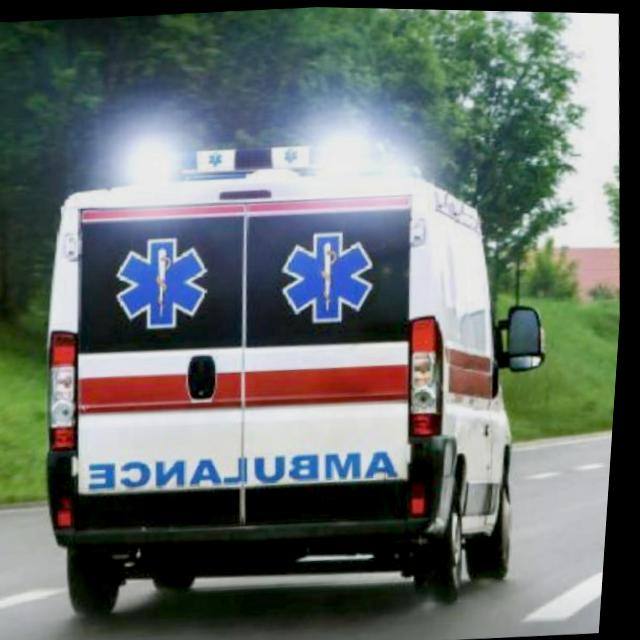emergency: (20, 112, 579, 631)
